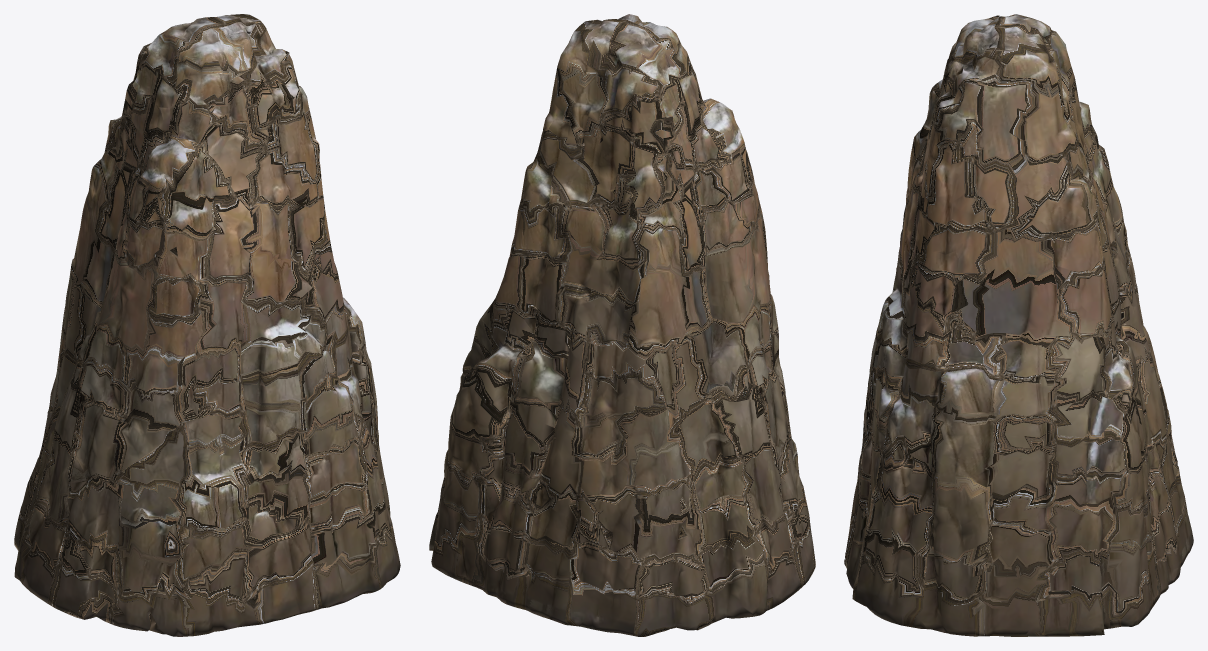
The picture shows the model from 3 angles, left to right: view 1: azimuth 30°, elevation 25°; view 2: azimuth 150°, elevation 25°; view 3: azimuth 270°, elevation 25°; orthographic projection.
Bounding box in the file's own units: 1.27 × 1.99 × 1.17.
1 material, 1 textured.
